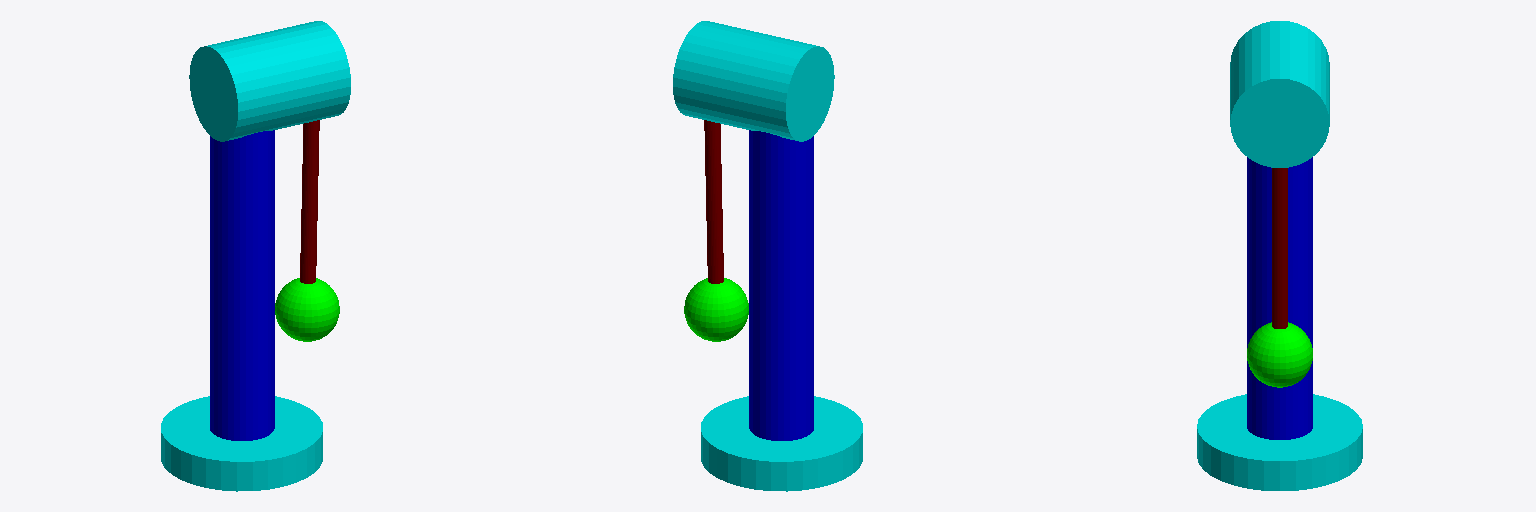
URDF robot description (pend_robot):
<?xml version="1.0"?>
<robot name="pend_robot">

  <link name="base_link">
    <visual>
      <origin xyz="0 0 0.0" rpy="0 0 0"/>
      <geometry><cylinder radius="0.25" length="0.1"/></geometry>
      <material name="cyan"><color rgba="0 0.9 0.9 1.0"/></material>
    </visual>
    <inertial>
      <mass value="100"/>
      <origin xyz="0 0 0" rpy="0 0 0"/>
      <inertia ixx="10" ixy="0" ixz="0" iyy="10" iyz="0" izz="10"/>
    </inertial>
  </link>

  <link name="body_link">
    <visual>
      <origin xyz="0 0 0.60" rpy="0 0 0"/>
      <geometry><cylinder radius="0.1" length="1.2"/></geometry>
      <material name="blue"><color rgba="0 0.0 0.9 1.0"/></material>
    </visual>
    <inertial>
      <mass value="5"/>
      <origin xyz="0 0 0.60" rpy="0 0 0"/>
      <inertia ixx="0.6" ixy="0" ixz="0" iyy="0.6" iyz="0" izz="0.05"/>
    </inertial>
  </link>

  <link name="motor_link">
    <visual>
      <origin xyz="0 0 0.10" rpy="0 0 0"/>
      <geometry><cylinder radius="0.15" length="0.4"/></geometry>
      <material name="cyan"><color rgba="0 0.9 0.9 1.0"/></material>
    </visual>
    <inertial>
      <mass value="1"/>
      <origin xyz="0 0 0.10" rpy="0 0 0"/>
      <inertia ixx="0.01" ixy="0" ixz="0" iyy="0.01" iyz="0" izz="0.01"/>
    </inertial>
  </link>

  <link name="arm_link">
    <visual>
      <origin xyz="0.0 0.0 0.40" rpy="0 0 0"/>
      <geometry><cylinder radius="0.025" length="0.8"/></geometry>
      <material name="red"><color rgba="0.5 0.0 0.0 1.0"/></material>
    </visual>
    <inertial>
      <mass value="0.5"/>
      <origin xyz="0.0 0.0 0.40" rpy="0 0 0"/>
      <inertia ixx="0.03" ixy="0" ixz="0" iyy="0.03" iyz="0" izz="0.0002"/>
    </inertial>
  </link>

  <link name="ball_link">
    <visual>
      <geometry><sphere radius="0.1"/></geometry>
      <material name="green"><color rgba="0 1 0 1"/></material>
    </visual>
    <inertial>
      <mass value="2"/>
      <origin xyz="0 0 0" rpy="0 0 0"/>
      <inertia ixx="0.008" ixy="0" ixz="0" iyy="0.008" iyz="0" izz="0.008"/>
    </inertial>
  </link>

  <joint name="first_joint" type="fixed">
    <parent link="base_link"/>
    <child link="body_link"/>
    <origin xyz="0 0 0.00" rpy="0 0 0"/>
  </joint>

  <joint name="motor_joint" type="continuous">
    <parent link="body_link"/>
    <child link="motor_link"/>
    <origin xyz="0 0 1.20" rpy="0 1.5870 0"/>
    <axis xyz="0 0 1"/>
    <dynamics damping="0.05" friction="0.0"/>
  </joint>

  <joint name="arm_joint" type="fixed">
    <parent link="motor_link"/>
    <child link="arm_link"/>
    <origin xyz="0 0 0.25" rpy="0 1.578 0"/>
  </joint>

  <joint name="arm_joint2" type="fixed">
    <parent link="arm_link"/>
    <child link="ball_link"/>
    <origin xyz="0 0 0.80" rpy="0 0 0"/>
  </joint>

</robot>

--- Facts derived from the render (not from the file) ---
The picture shows the robot from 3 angles, left to right: view 1: azimuth 30°, elevation 25°; view 2: azimuth 150°, elevation 25°; view 3: azimuth 270°, elevation 25°; orthographic projection.
Robot: pend_robot — 5 links, 4 joints (1 continuous, 3 fixed); root link base_link; default pose: every joint at zero.
Links seen in each view (by area): view 1: body_link, motor_link, base_link, ball_link, arm_link; view 2: body_link, motor_link, base_link, ball_link, arm_link; view 3: motor_link, body_link, base_link, ball_link, arm_link.
Link boxes in pixels (left/top/right/bottom): body_link: left=210, top=130, right=274, bottom=440; motor_link: left=189, top=21, right=350, bottom=141; base_link: left=161, top=396, right=322, bottom=491; ball_link: left=275, top=278, right=339, bottom=341; arm_link: left=300, top=120, right=319, bottom=283; body_link: left=749, top=130, right=813, bottom=440; motor_link: left=673, top=21, right=834, bottom=141; base_link: left=701, top=396, right=862, bottom=491; ball_link: left=684, top=278, right=748, bottom=341; arm_link: left=704, top=120, right=723, bottom=283; motor_link: left=1230, top=21, right=1329, bottom=167; body_link: left=1247, top=157, right=1312, bottom=439; base_link: left=1197, top=394, right=1362, bottom=490; ball_link: left=1247, top=322, right=1312, bottom=387; arm_link: left=1272, top=168, right=1287, bottom=328.
Size in the robot's own frame: 0.5812 by 0.5 by 1.4 metres.
Geometry: primitives only (box / cylinder / sphere), no mesh files.
